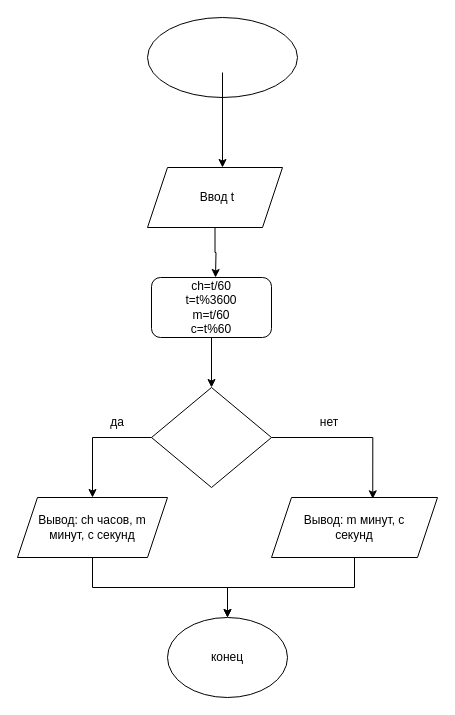
This 455x715 diagram has some shape labels left out. The centre of each missing label's shape, as x and y in pixels:
"ch>0-?" belongs at (x=211, y=437).
"Начало" belongs at (x=222, y=57).
